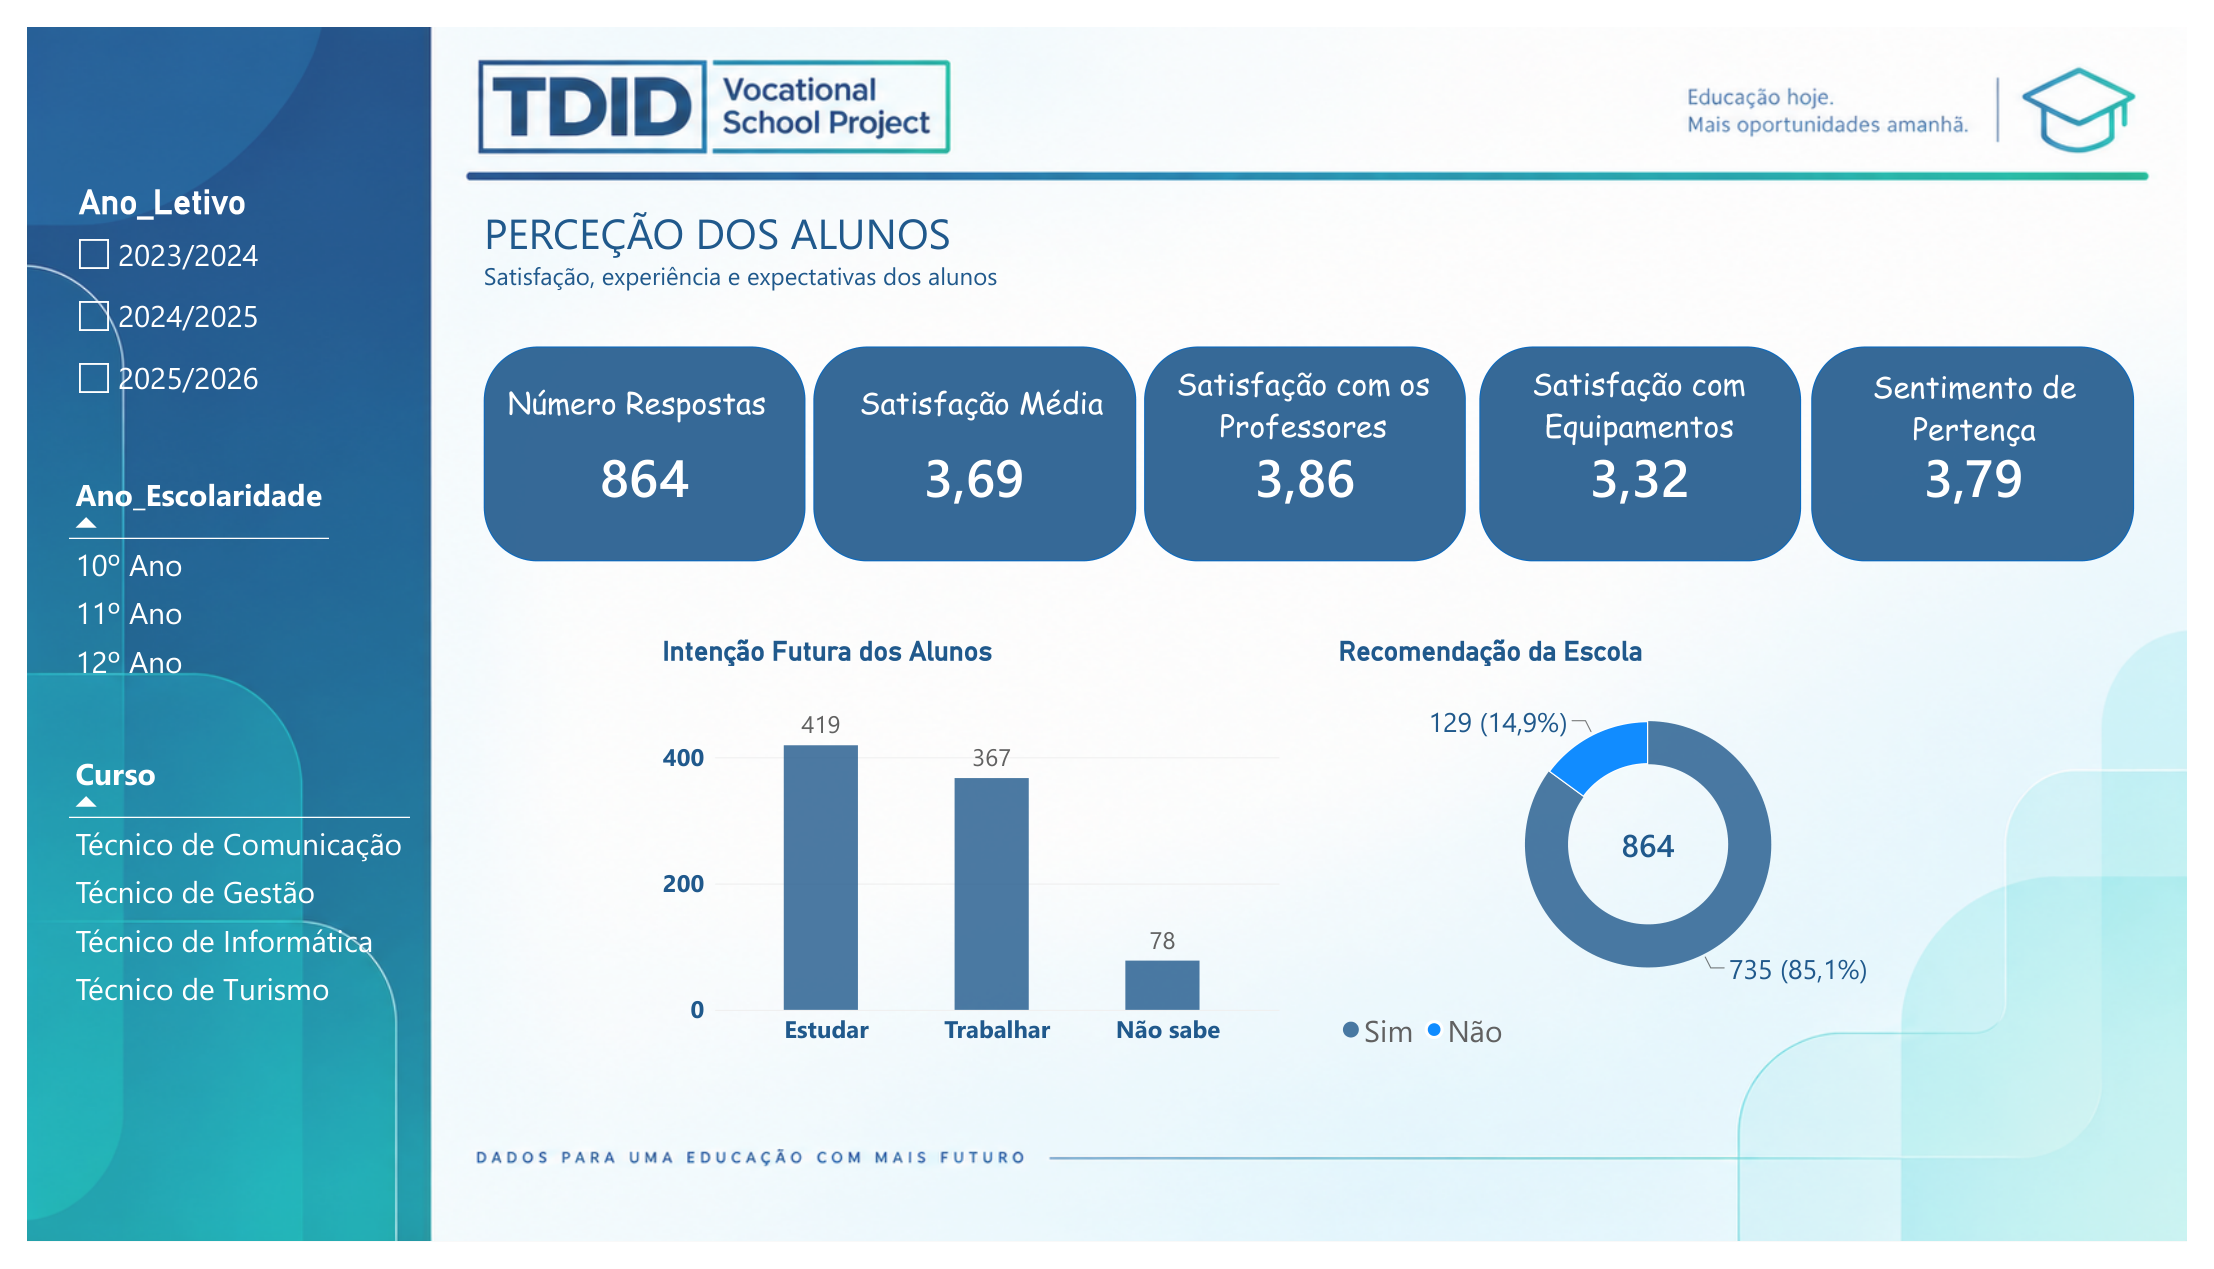

The page's visual inventory and layout, read from the dashboard file:
{"tool":"powerbi","page":{"name":"Perceção dos Alunos","canvas":[1920,1080],"ordinal":2},"visuals":[{"type":"tableEx","fields":{"Values":["dCurso.Curso"]},"box":[21.5,627.5,362.7,326.9],"z":0},{"type":"slicer","fields":{"Values":["dCalendario.Ano_Letivo"]},"box":[38.2,138.4,195.6,217.1],"z":1000},{"type":"tableEx","fields":{"Values":["dMatricula.Ano_Escolaridade"]},"box":[21.5,379.4,295.9,248.1],"z":2000},{"type":"textbox","box":[405.6,157.5,584.5,124.1],"z":3000},{"type":"shape","box":[406,283.9,286.3,190.9],"z":4000},{"type":"shape","box":[699.4,283.9,286.3,190.9],"z":5000},{"type":"shape","box":[992.9,283.9,286.3,190.9],"z":6000},{"type":"shape","box":[1291.1,283.9,286.3,190.9],"z":7000},{"type":"shape","box":[1586.2,283.9,286.3,190.9],"z":8000},{"type":"card","fields":{"Values":["_Medidas.Nº Respostas Questionário"]},"box":[405.6,324.5,286.3,150.3],"z":9000},{"type":"card","fields":{"Values":["_Medidas.Satisfação Média"]},"box":[699.1,324.5,286.3,150.3],"z":10000},{"type":"card","fields":{"Values":["_Medidas.Satisfação Professores"]},"box":[992.5,324.5,286.3,150.3],"z":11000},{"type":"card","fields":{"Values":["_Medidas.Satisfação Equipamentos"]},"box":[1290.8,324.5,286.3,150.3],"z":12000},{"type":"card","fields":{"Values":["_Medidas.Sentimento de Pertença"]},"box":[1586.6,324.5,286.3,150.3],"z":13000},{"type":"textbox","box":[427.4,314.9,245.7,54.9],"z":14000},{"type":"textbox","box":[739.6,314.9,245.7,54.9],"z":15000},{"type":"textbox","box":[1011.6,298.2,245.7,88.3],"z":16000},{"type":"textbox","box":[1309.9,298.2,245.7,88.3],"z":17000},{"type":"textbox","box":[1608.1,300.6,245.7,88.3],"z":18000},{"type":"clusteredColumnChart","title":"Intenção Futura dos Alunos","fields":{"Category":["fQuestionario.Futuro"],"Y":["_Medidas.Nº Respostas Questionário"]},"box":[548.8,527.3,579.8,400.8],"z":19000},{"type":"donutChart","title":"Recomendação da Escola","fields":{"Category":["fQuestionario.Recomendaria_Escola"],"Y":["_Medidas.Nº Respostas Questionário"]},"box":[1150,527.3,582.2,400.8],"z":20000}]}

Visuals, with their boxes in screenshot pixels (x1, y1, x2, y2), scaled from the page's 1920x1080 canvas onto the 2214x1269 screenshot:
tableEx - dCurso.Curso: (25,737,443,1121)
slicer - dCalendario.Ano_Letivo: (44,163,270,418)
tableEx - dMatricula.Ano_Escolaridade: (25,446,366,737)
textbox: (468,185,1142,331)
shape: (468,334,798,558)
shape: (806,334,1137,558)
shape: (1145,334,1475,558)
shape: (1489,334,1819,558)
shape: (1829,334,2159,558)
card - _Medidas.Nº Respostas Questionário: (468,381,798,558)
card - _Medidas.Satisfação Média: (806,381,1136,558)
card - _Medidas.Satisfação Professores: (1144,381,1475,558)
card - _Medidas.Satisfação Equipamentos: (1488,381,1819,558)
card - _Medidas.Sentimento de Pertença: (1830,381,2160,558)
textbox: (493,370,776,435)
textbox: (853,370,1136,435)
textbox: (1167,350,1450,454)
textbox: (1510,350,1794,454)
textbox: (1854,353,2138,457)
"Intenção Futura dos Alunos" clusteredColumnChart: (633,620,1301,1091)
"Recomendação da Escola" donutChart: (1326,620,1997,1091)
